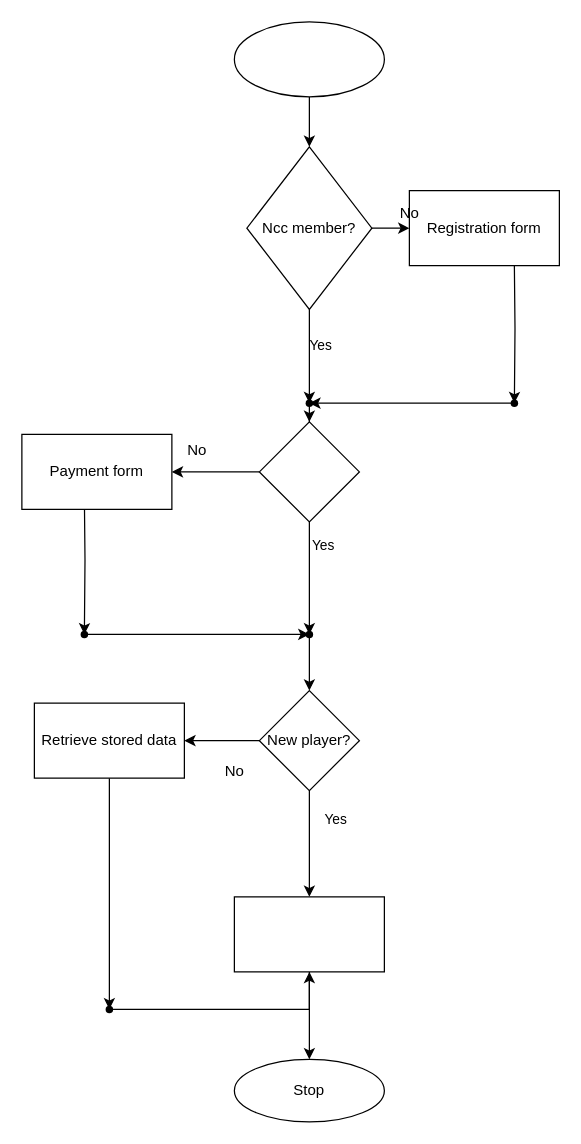
The diagram is 581 pixels wide and 1144 high, and some of its shapes have lost their labels. The shapes that lost their labels are listed below. From the top down, each one's centre as x and y in pixels, then its label:
At [308,59]: "Start".
At [308,471]: "Paid up?".
At [308,934]: "Rank bottom".
